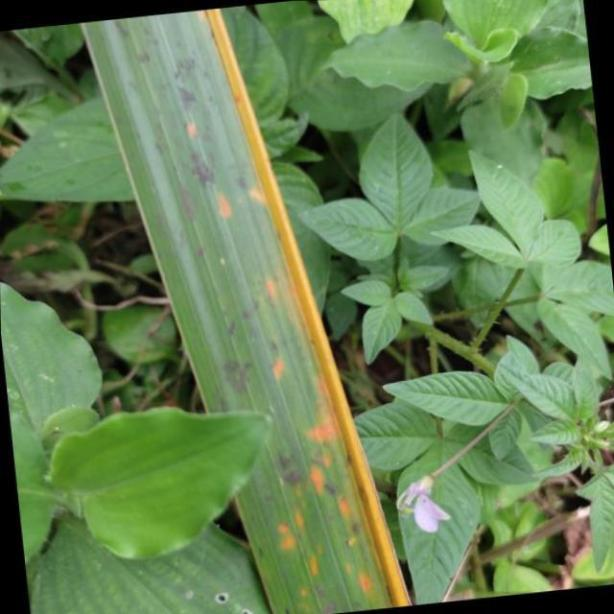Megnesium: (84, 3, 412, 614)
